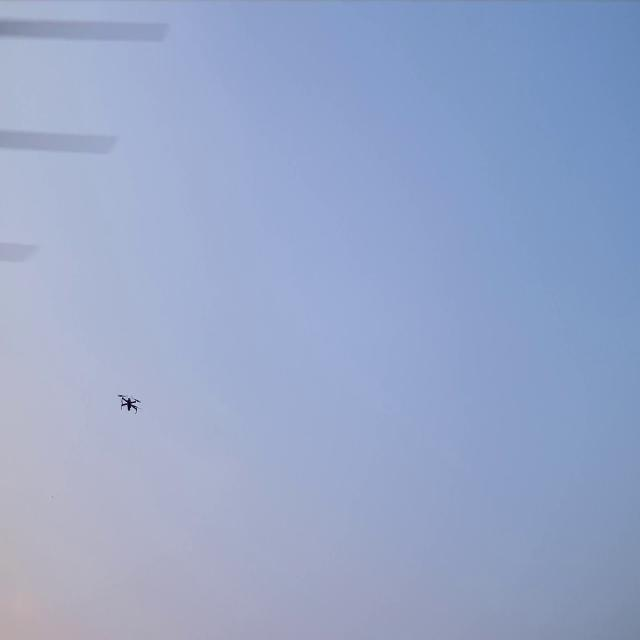UAV: (117, 391, 143, 415)
